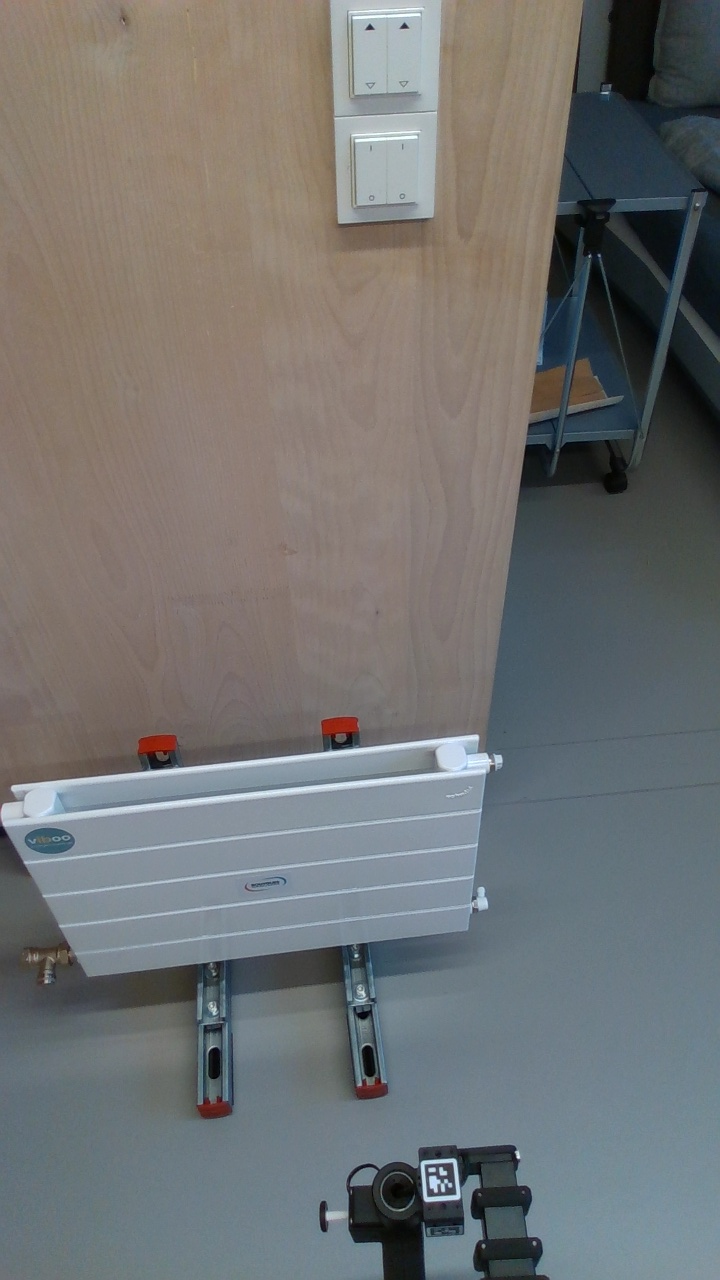Light_Switch: (330, 110, 438, 227), (326, 4, 440, 114)
Radiator: (4, 729, 500, 984)
